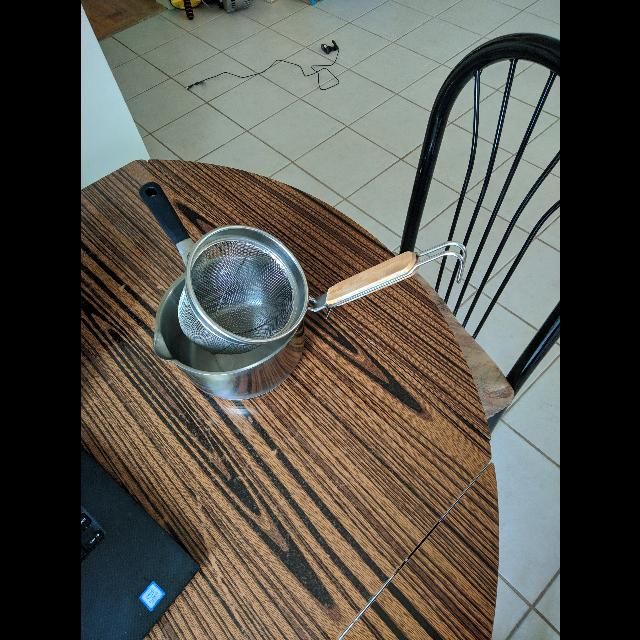Handle: (304, 235, 471, 313)
Strainer: (179, 217, 316, 344)
